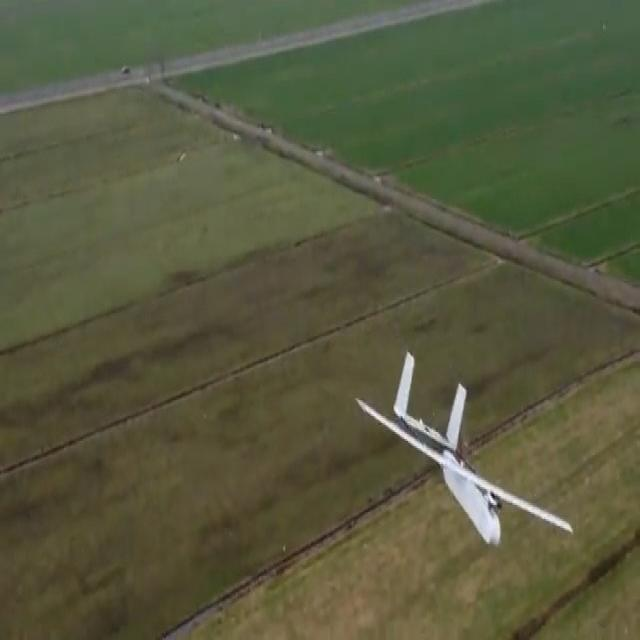iha: (356, 339, 576, 560)
